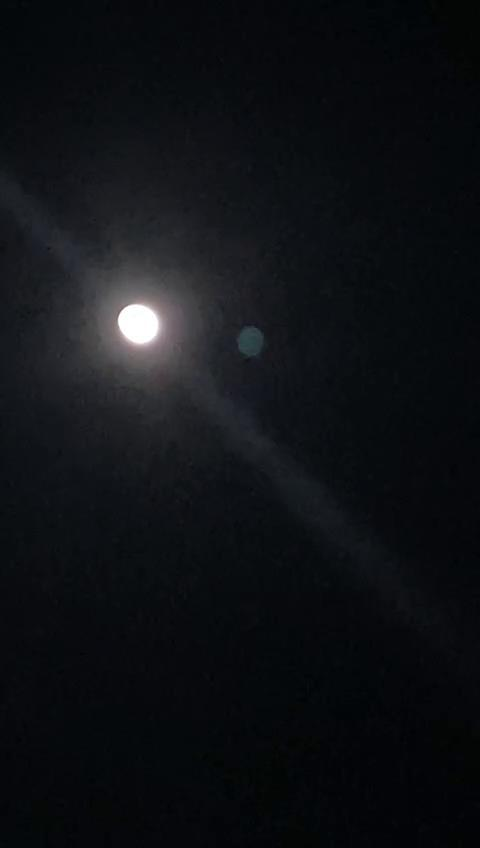moon: (112, 295, 170, 352)
